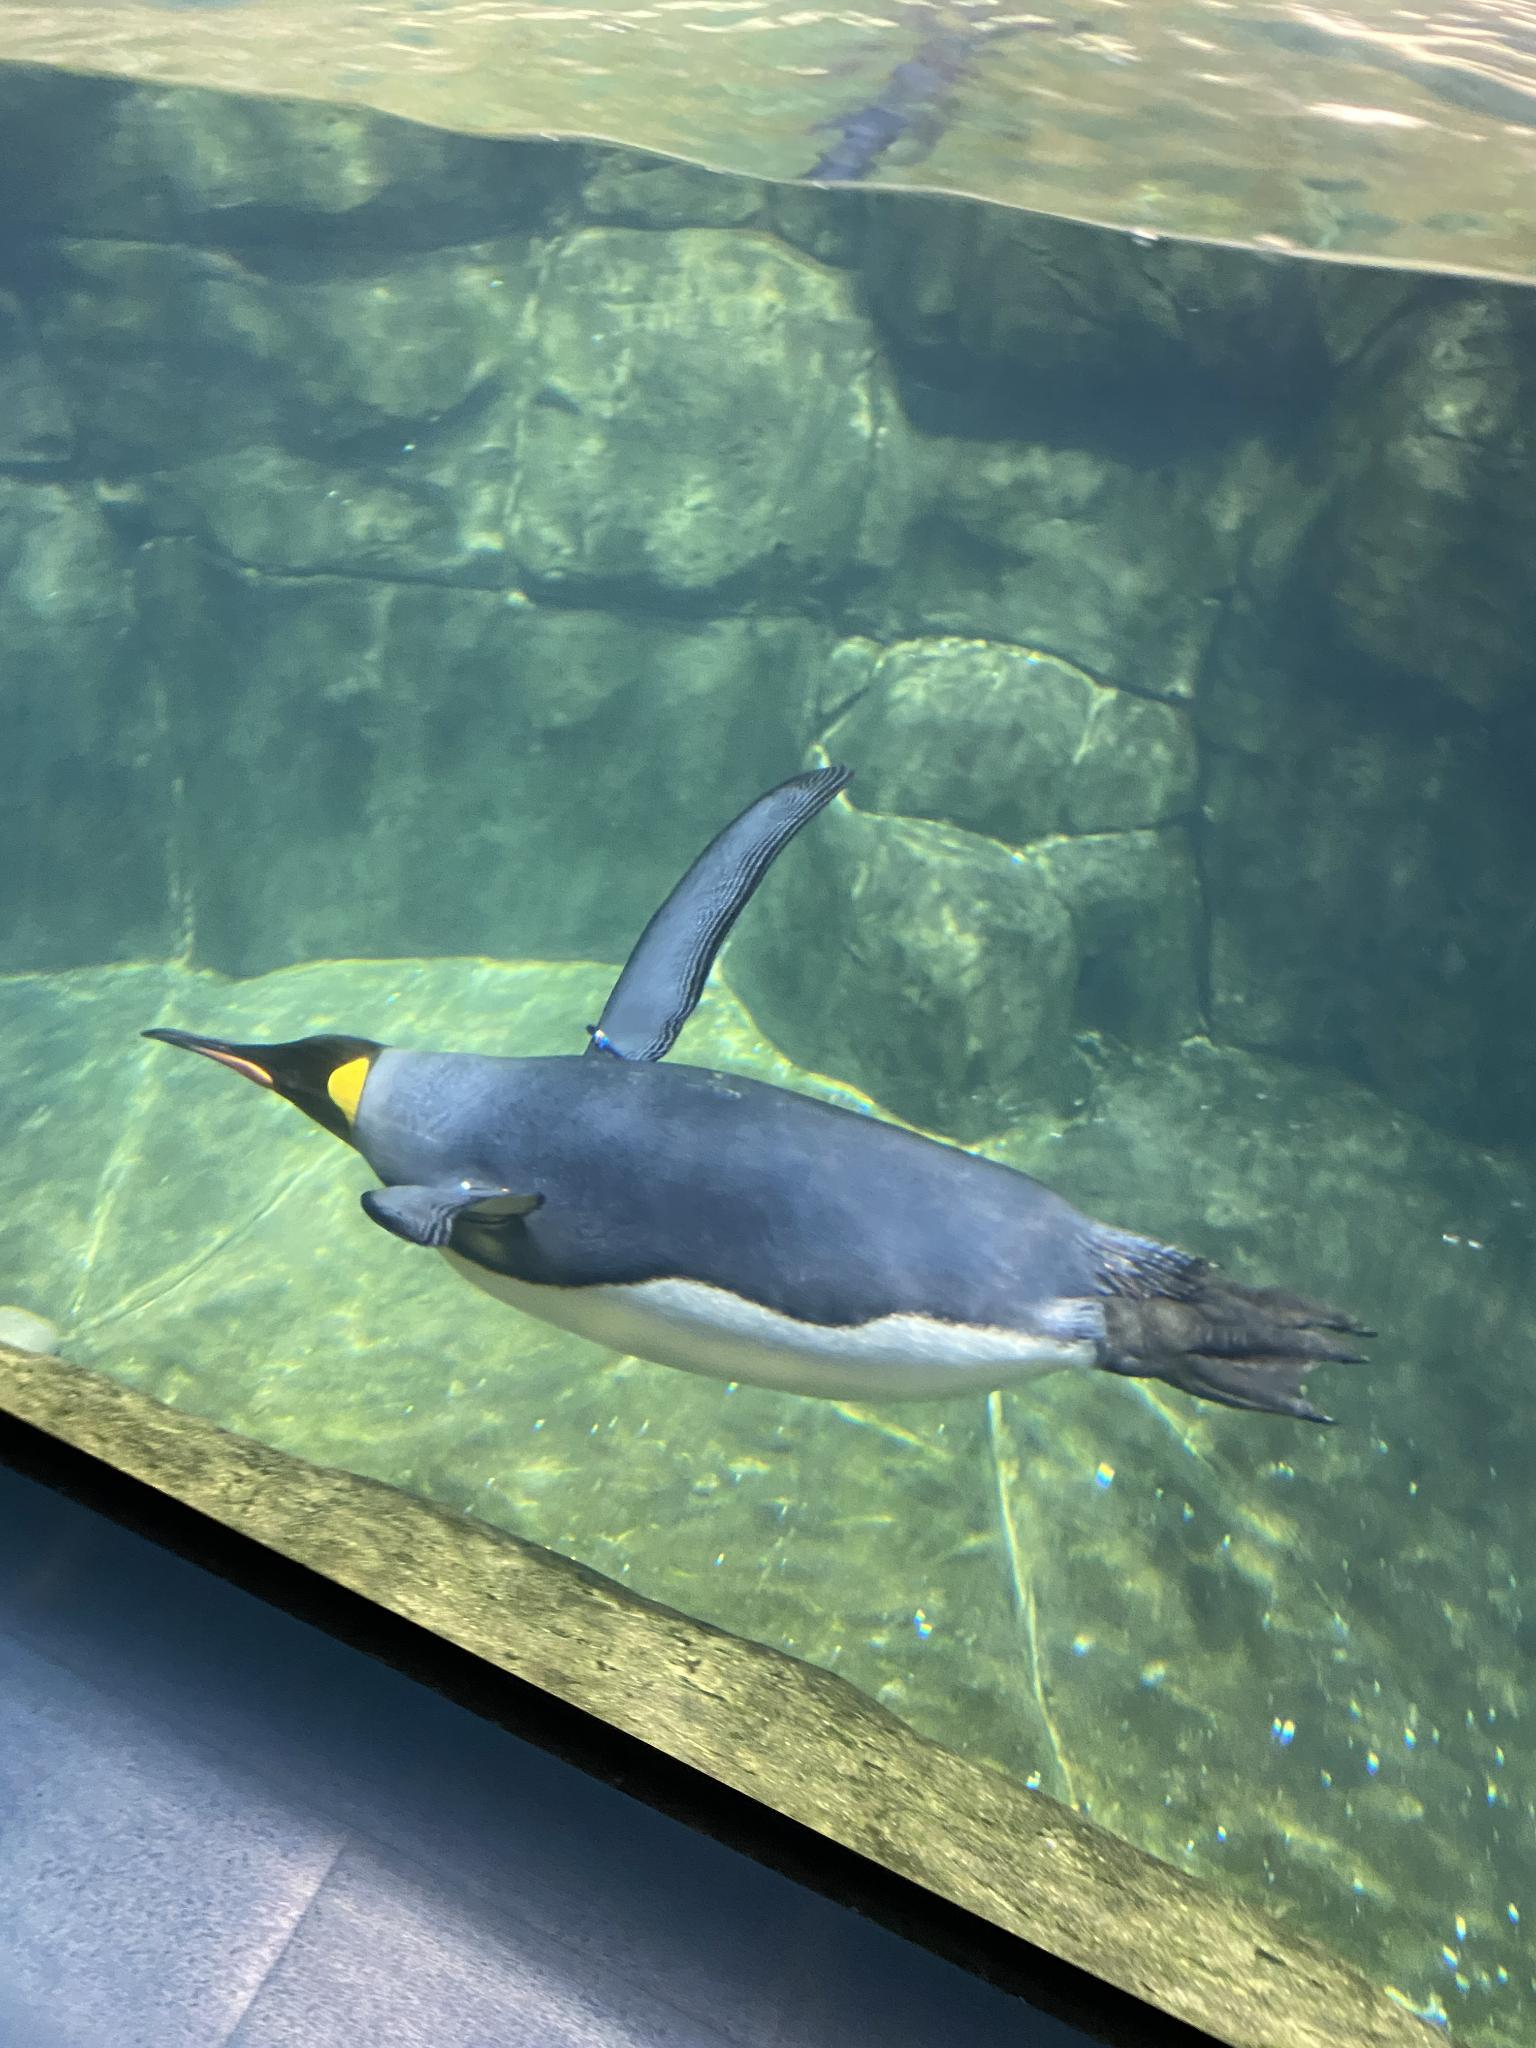penguin: (121, 776, 1412, 1421)
